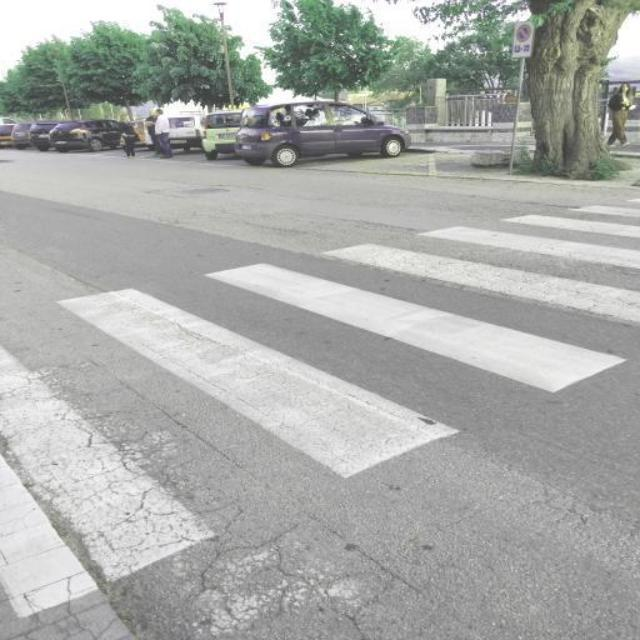sidewalk: (0, 176, 640, 635)
